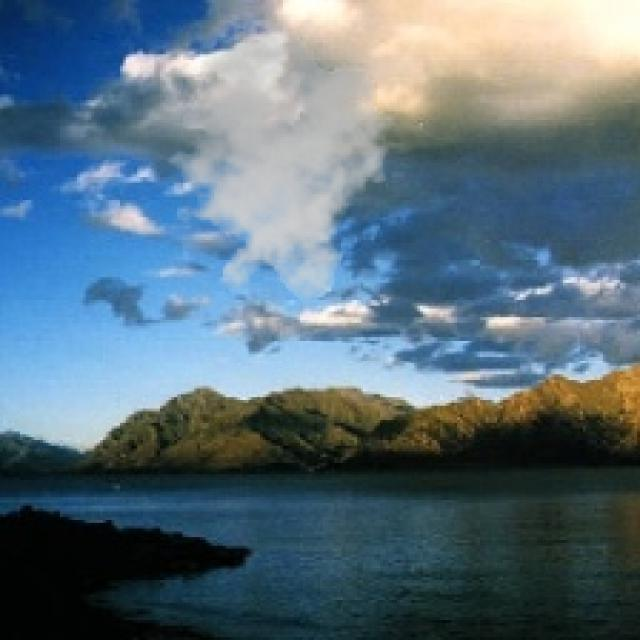Smoke: (154, 26, 403, 303)
